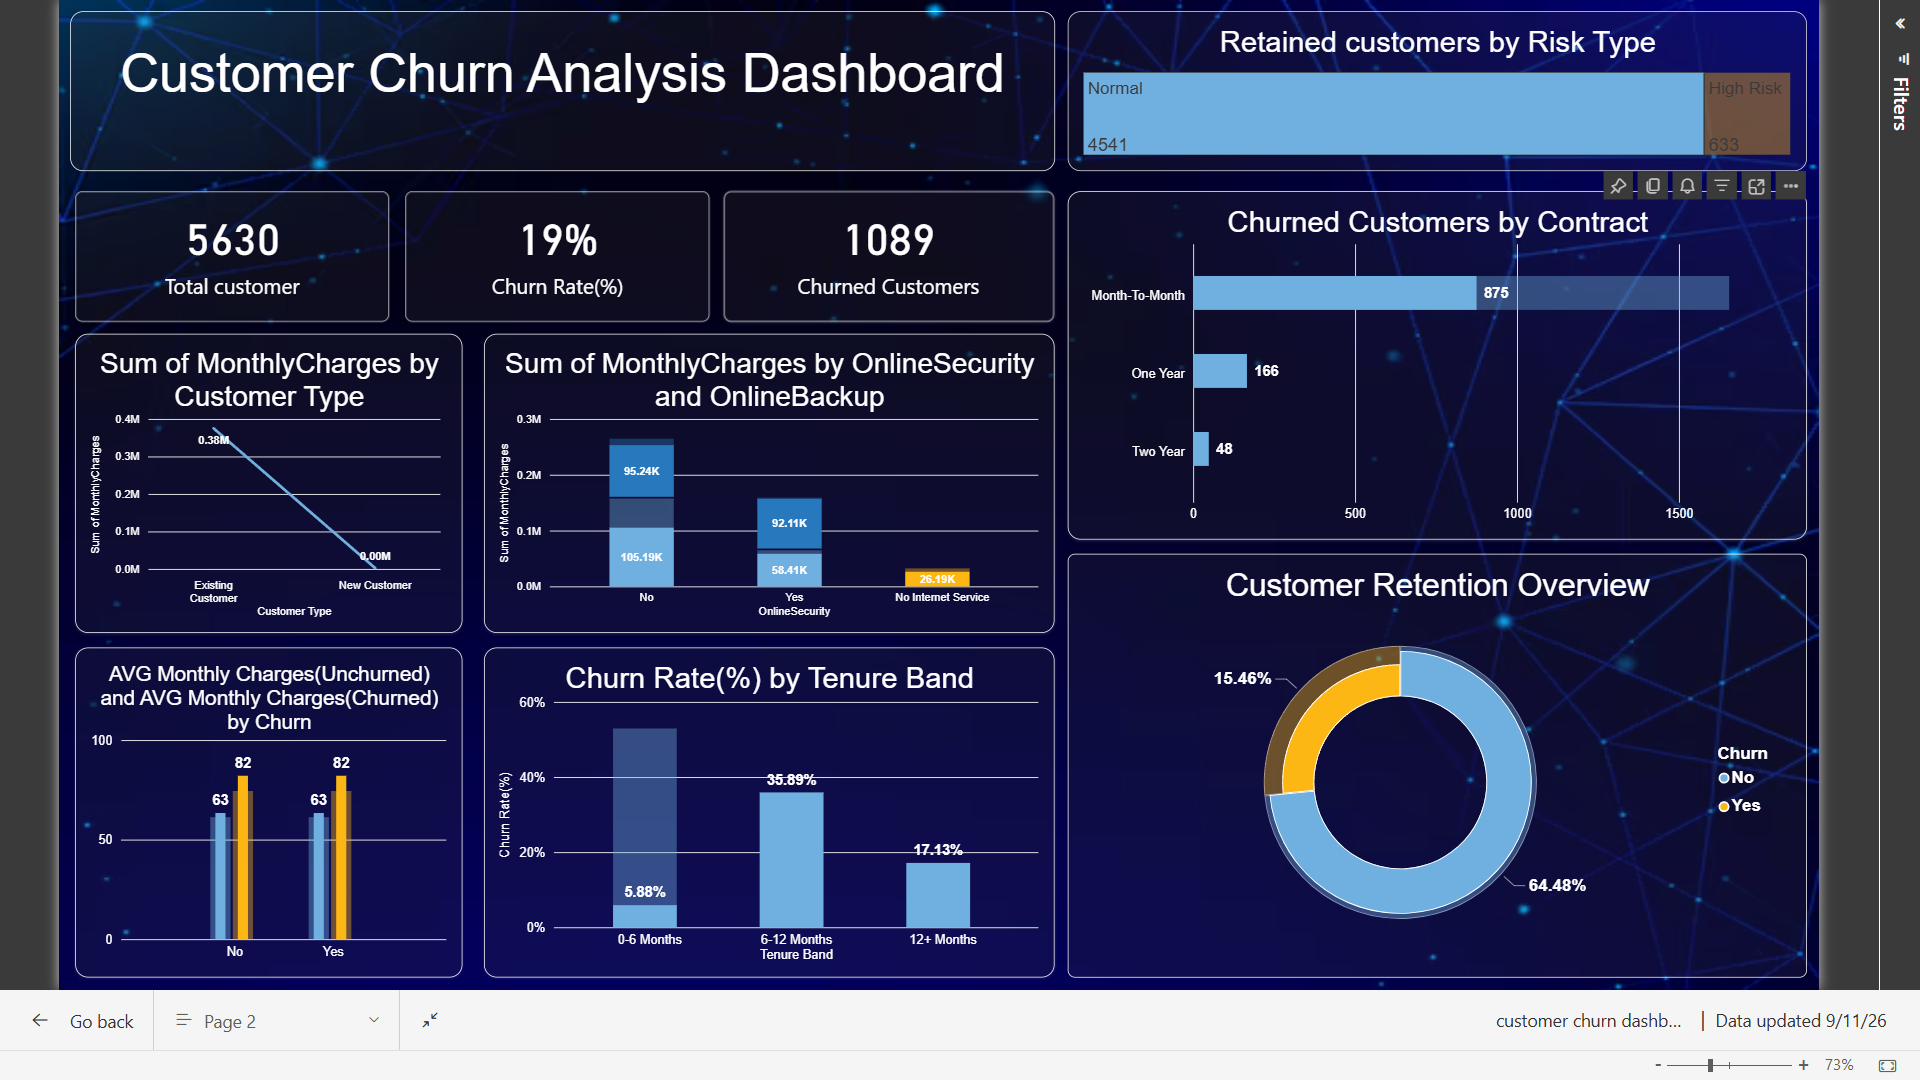

What the dashboard file says about the page in this screenshot:
{"tool":"powerbi","page":{"name":"Page 2","canvas":[1920,1080],"ordinal":0},"visuals":[{"type":"textbox","box":[12,12,1074,174],"z":0},{"type":"treemap","fields":{"Group":["telco_churn_unclean.Risk Type"],"Values":["calculated measure.retained customers"]},"box":[1100,12,806,174],"z":1000},{"type":"advanceCardE03760C5AB684758B56AA29F9E6C257B","fields":{"mainMeasure":["calculated measure.total customer"]},"box":[18,208,342,142],"z":2000},{"type":"advanceCardE03760C5AB684758B56AA29F9E6C257B","fields":{"mainMeasure":["calculated measure.Churn Rate(%)"]},"box":[378,208,332,142],"z":3000},{"type":"advanceCardE03760C5AB684758B56AA29F9E6C257B","fields":{"mainMeasure":["calculated measure.Churned Customers"]},"box":[726,208,360,142],"z":4000},{"type":"donutChart","title":"Customer Retention Overview","fields":{"Category":["telco_churn_unclean.Churn"],"Y":["calculated measure.total customer"]},"box":[1100,604,806,462],"z":5000},{"type":"barChart","fields":{"Category":["telco_churn_unclean.Contract"],"Y":["calculated measure.Churned Customers"]},"box":[1100,208,806,380],"z":6000},{"type":"columnChart","fields":{"Category":["telco_churn_unclean.OnlineSecurity"],"Series":["telco_churn_unclean.OnlineBackup"],"Y":["Sum(telco_churn_unclean.MonthlyCharges)"]},"box":[464,364,622,326],"z":7000},{"type":"clusteredColumnChart","fields":{"Category":["telco_churn_unclean.Tenure Band"],"Y":["calculated measure.Churn Rate(%)"]},"box":[464,706,622,360],"z":8000},{"type":"clusteredColumnChart","title":"AVG Monthly Charges(Unchurned) and AVG Monthly Charges(Churned) by Churn","fields":{"Category":["telco_churn_unclean.Churn"],"Y":["calculated measure.AVG Monthly Charges(Unchurned)","calculated measure.AVG Monthly Charges(Churned)"]},"box":[18,706,422,360],"z":9000},{"type":"lineChart","fields":{"Category":["telco_churn_unclean.Customer Type"],"Y":["Sum(telco_churn_unclean.MonthlyCharges)"]},"box":[18,364,422,326],"z":10000}]}

Visuals, with their boxes on the page's 1920x1080 design canvas (x1, y1, x2, y2). These are canvas units, not pixel positions in the 1920x1080 screenshot, which may show the page scaled, cropped or inside an application window:
textbox: pyautogui.locateOnScreen(12, 12, 1086, 186)
treemap - telco_churn_unclean.Risk Type x calculated measure.retained customers: pyautogui.locateOnScreen(1100, 12, 1906, 186)
advanceCardE03760C5AB684758B56AA29F9E6C257B - calculated measure.total customer: pyautogui.locateOnScreen(18, 208, 360, 350)
advanceCardE03760C5AB684758B56AA29F9E6C257B - calculated measure.Churn Rate(%): pyautogui.locateOnScreen(378, 208, 710, 350)
advanceCardE03760C5AB684758B56AA29F9E6C257B - calculated measure.Churned Customers: pyautogui.locateOnScreen(726, 208, 1086, 350)
"Customer Retention Overview" donutChart: pyautogui.locateOnScreen(1100, 604, 1906, 1066)
barChart - telco_churn_unclean.Contract x calculated measure.Churned Customers: pyautogui.locateOnScreen(1100, 208, 1906, 588)
columnChart - telco_churn_unclean.OnlineSecurity x telco_churn_unclean.OnlineBackup: pyautogui.locateOnScreen(464, 364, 1086, 690)
clusteredColumnChart - telco_churn_unclean.Tenure Band x calculated measure.Churn Rate(%): pyautogui.locateOnScreen(464, 706, 1086, 1066)
"AVG Monthly Charges(Unchurned) and AVG Monthly Charges(Churned) by Churn" clusteredColumnChart: pyautogui.locateOnScreen(18, 706, 440, 1066)
lineChart - telco_churn_unclean.Customer Type x Sum(telco_churn_unclean.MonthlyCharges): pyautogui.locateOnScreen(18, 364, 440, 690)
